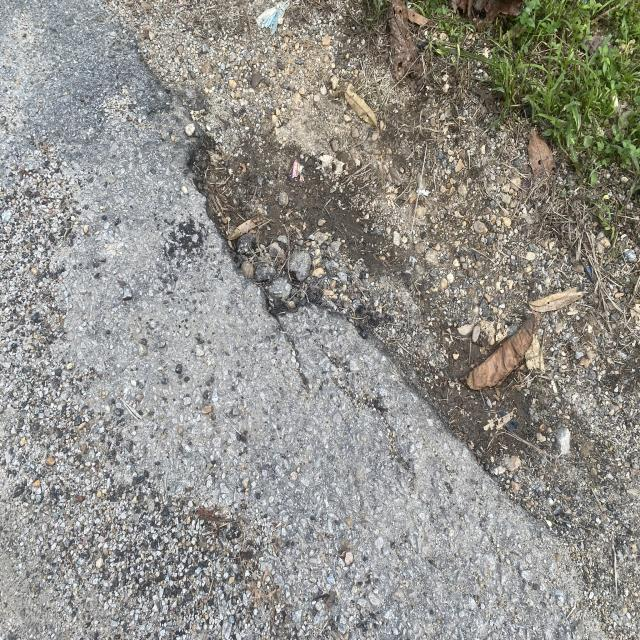pothole: (155, 94, 355, 388)
